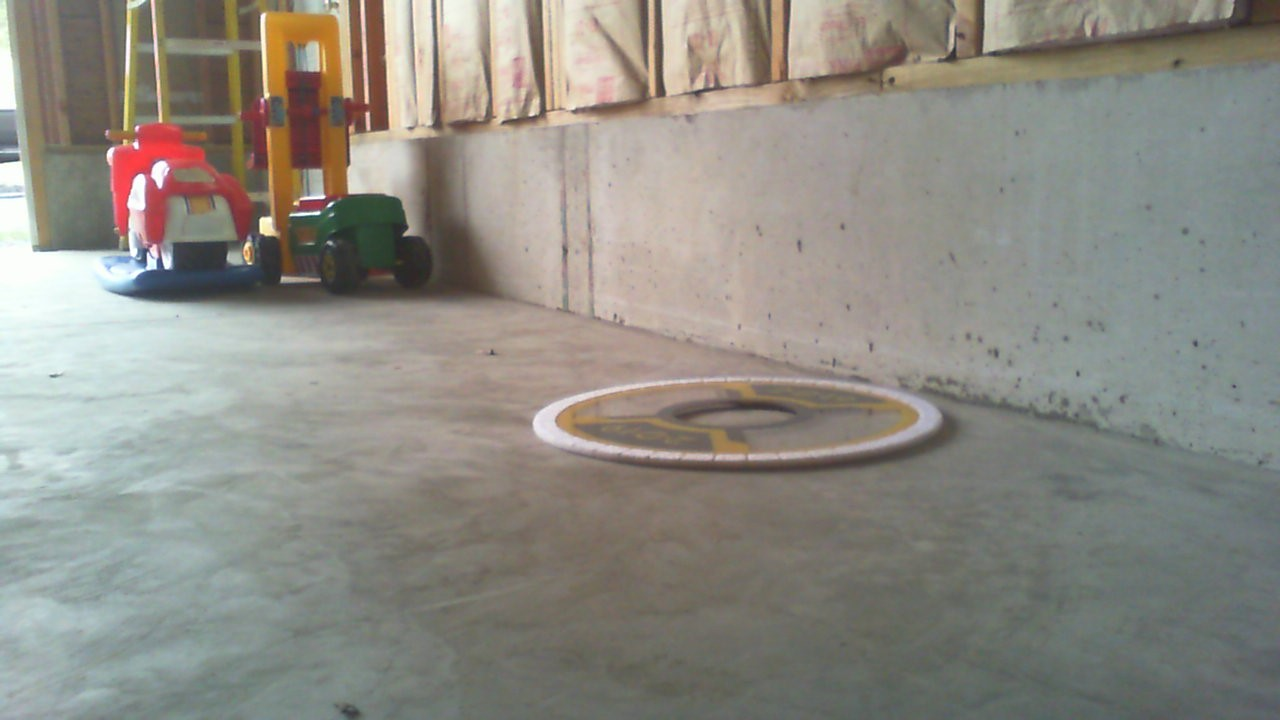Hatch: (531, 373, 943, 470)
